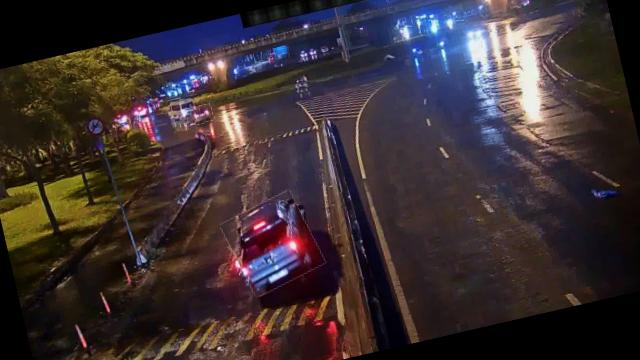Bus: (167, 94, 202, 120)
Car: (220, 190, 326, 298), (184, 104, 214, 128)
